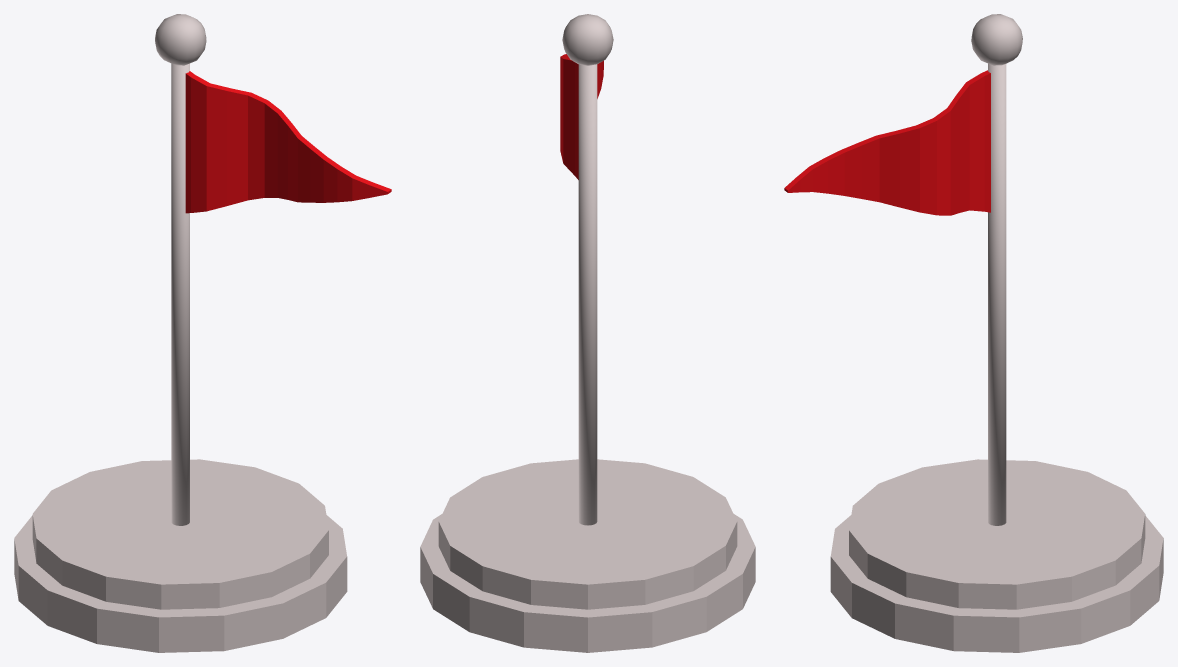
The model's file is Flag.fbx.
3 views of the same model, side by side, from view 1: azimuth 30°, elevation 25°; view 2: azimuth 150°, elevation 25°; view 3: azimuth 270°, elevation 25° (orthographic).
Parts seen in each view (by area): view 1: Flag; view 2: Flag; view 3: Flag.
Boxes of the visible parts, x1=… form: Flag: x1=14, y1=14, x2=391, y2=652; Flag: x1=420, y1=14, x2=755, y2=652; Flag: x1=784, y1=14, x2=1163, y2=652.
Size of the model in its own units: 83.78 by 157 by 95.43.
